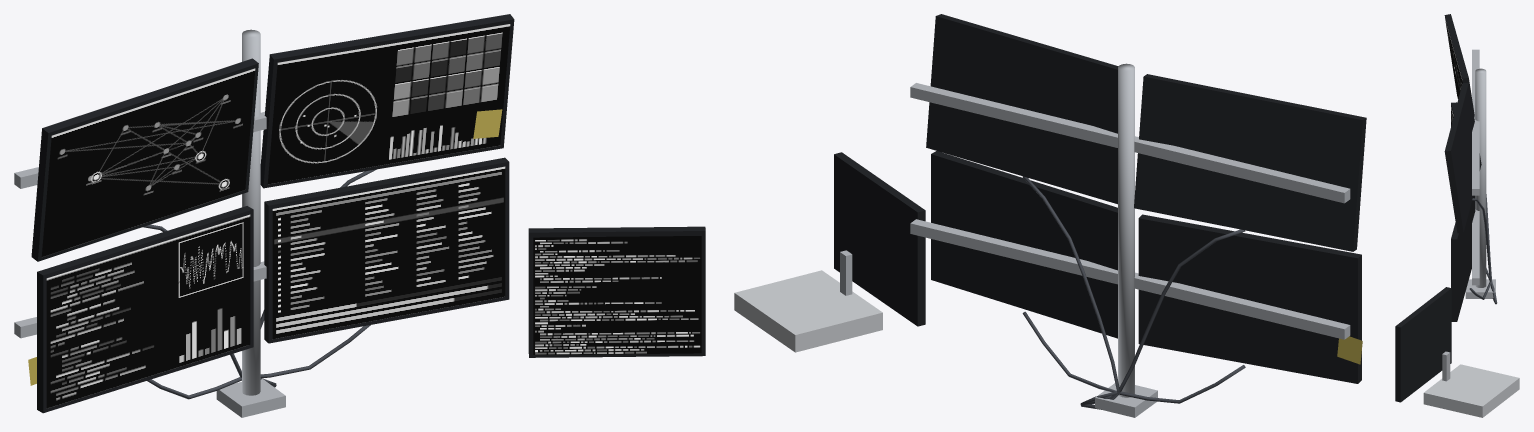
The model's file is Tech_MonitorStack.gltf.
3 renders of one model, left to right at view 1: azimuth 30°, elevation 25°; view 2: azimuth 150°, elevation 25°; view 3: azimuth 270°, elevation 25°, orthographic. The views are drawn at different scales.
Parts seen in each view (by area): view 1: Tech_MonitorStack; view 2: Tech_MonitorStack; view 3: Tech_MonitorStack.
Part boxes in pixels (x1,y1,x2,y2): Tech_MonitorStack: [14, 14, 705, 417]; Tech_MonitorStack: [734, 14, 1366, 417]; Tech_MonitorStack: [1395, 14, 1519, 417].
Bounding box in the file's own units: 1.83 × 0.9696 × 0.4904.
10 materials, 5 textured.
